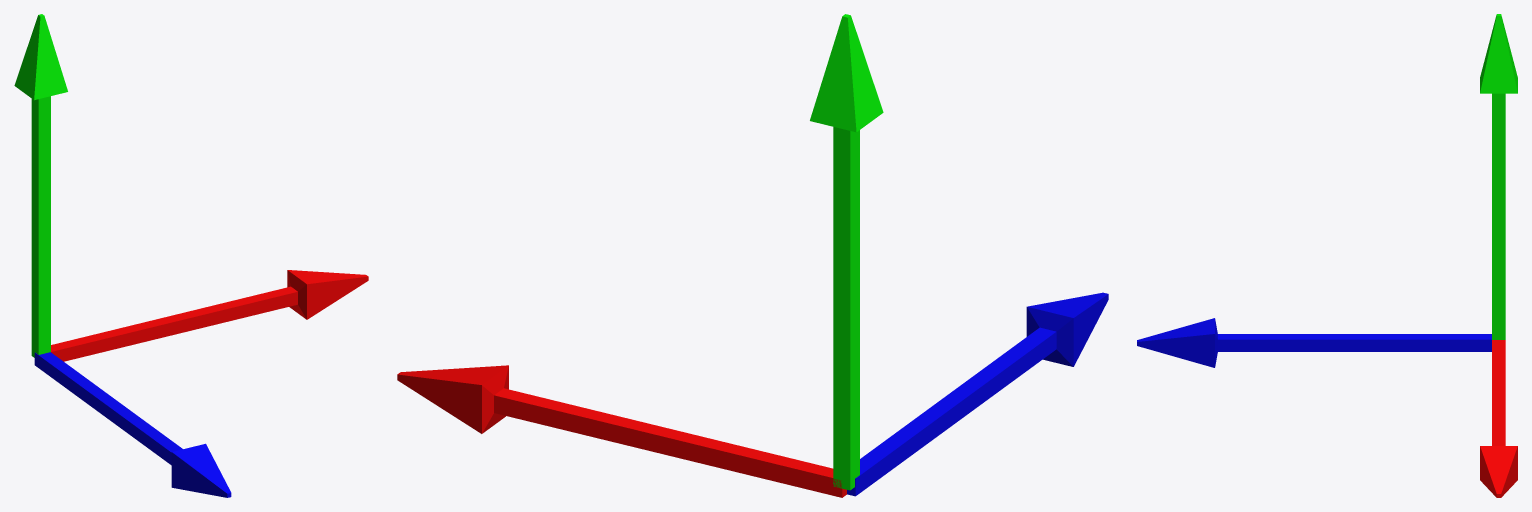
Rendered from anchor.fbx.
3 renders of one model, left to right at view 1: azimuth 30°, elevation 25°; view 2: azimuth 150°, elevation 25°; view 3: azimuth 270°, elevation 25°, orthographic. The views are drawn at different scales.
Visible parts, largest first — view 1: anchor; view 2: anchor; view 3: anchor.
Part boxes in pixels (box(x1,y1,x2,y2)): anchor: box(14, 14, 368, 497); anchor: box(397, 14, 1108, 497); anchor: box(1137, 14, 1517, 497).
Size of the model in its own units: 105 by 105 by 105.
